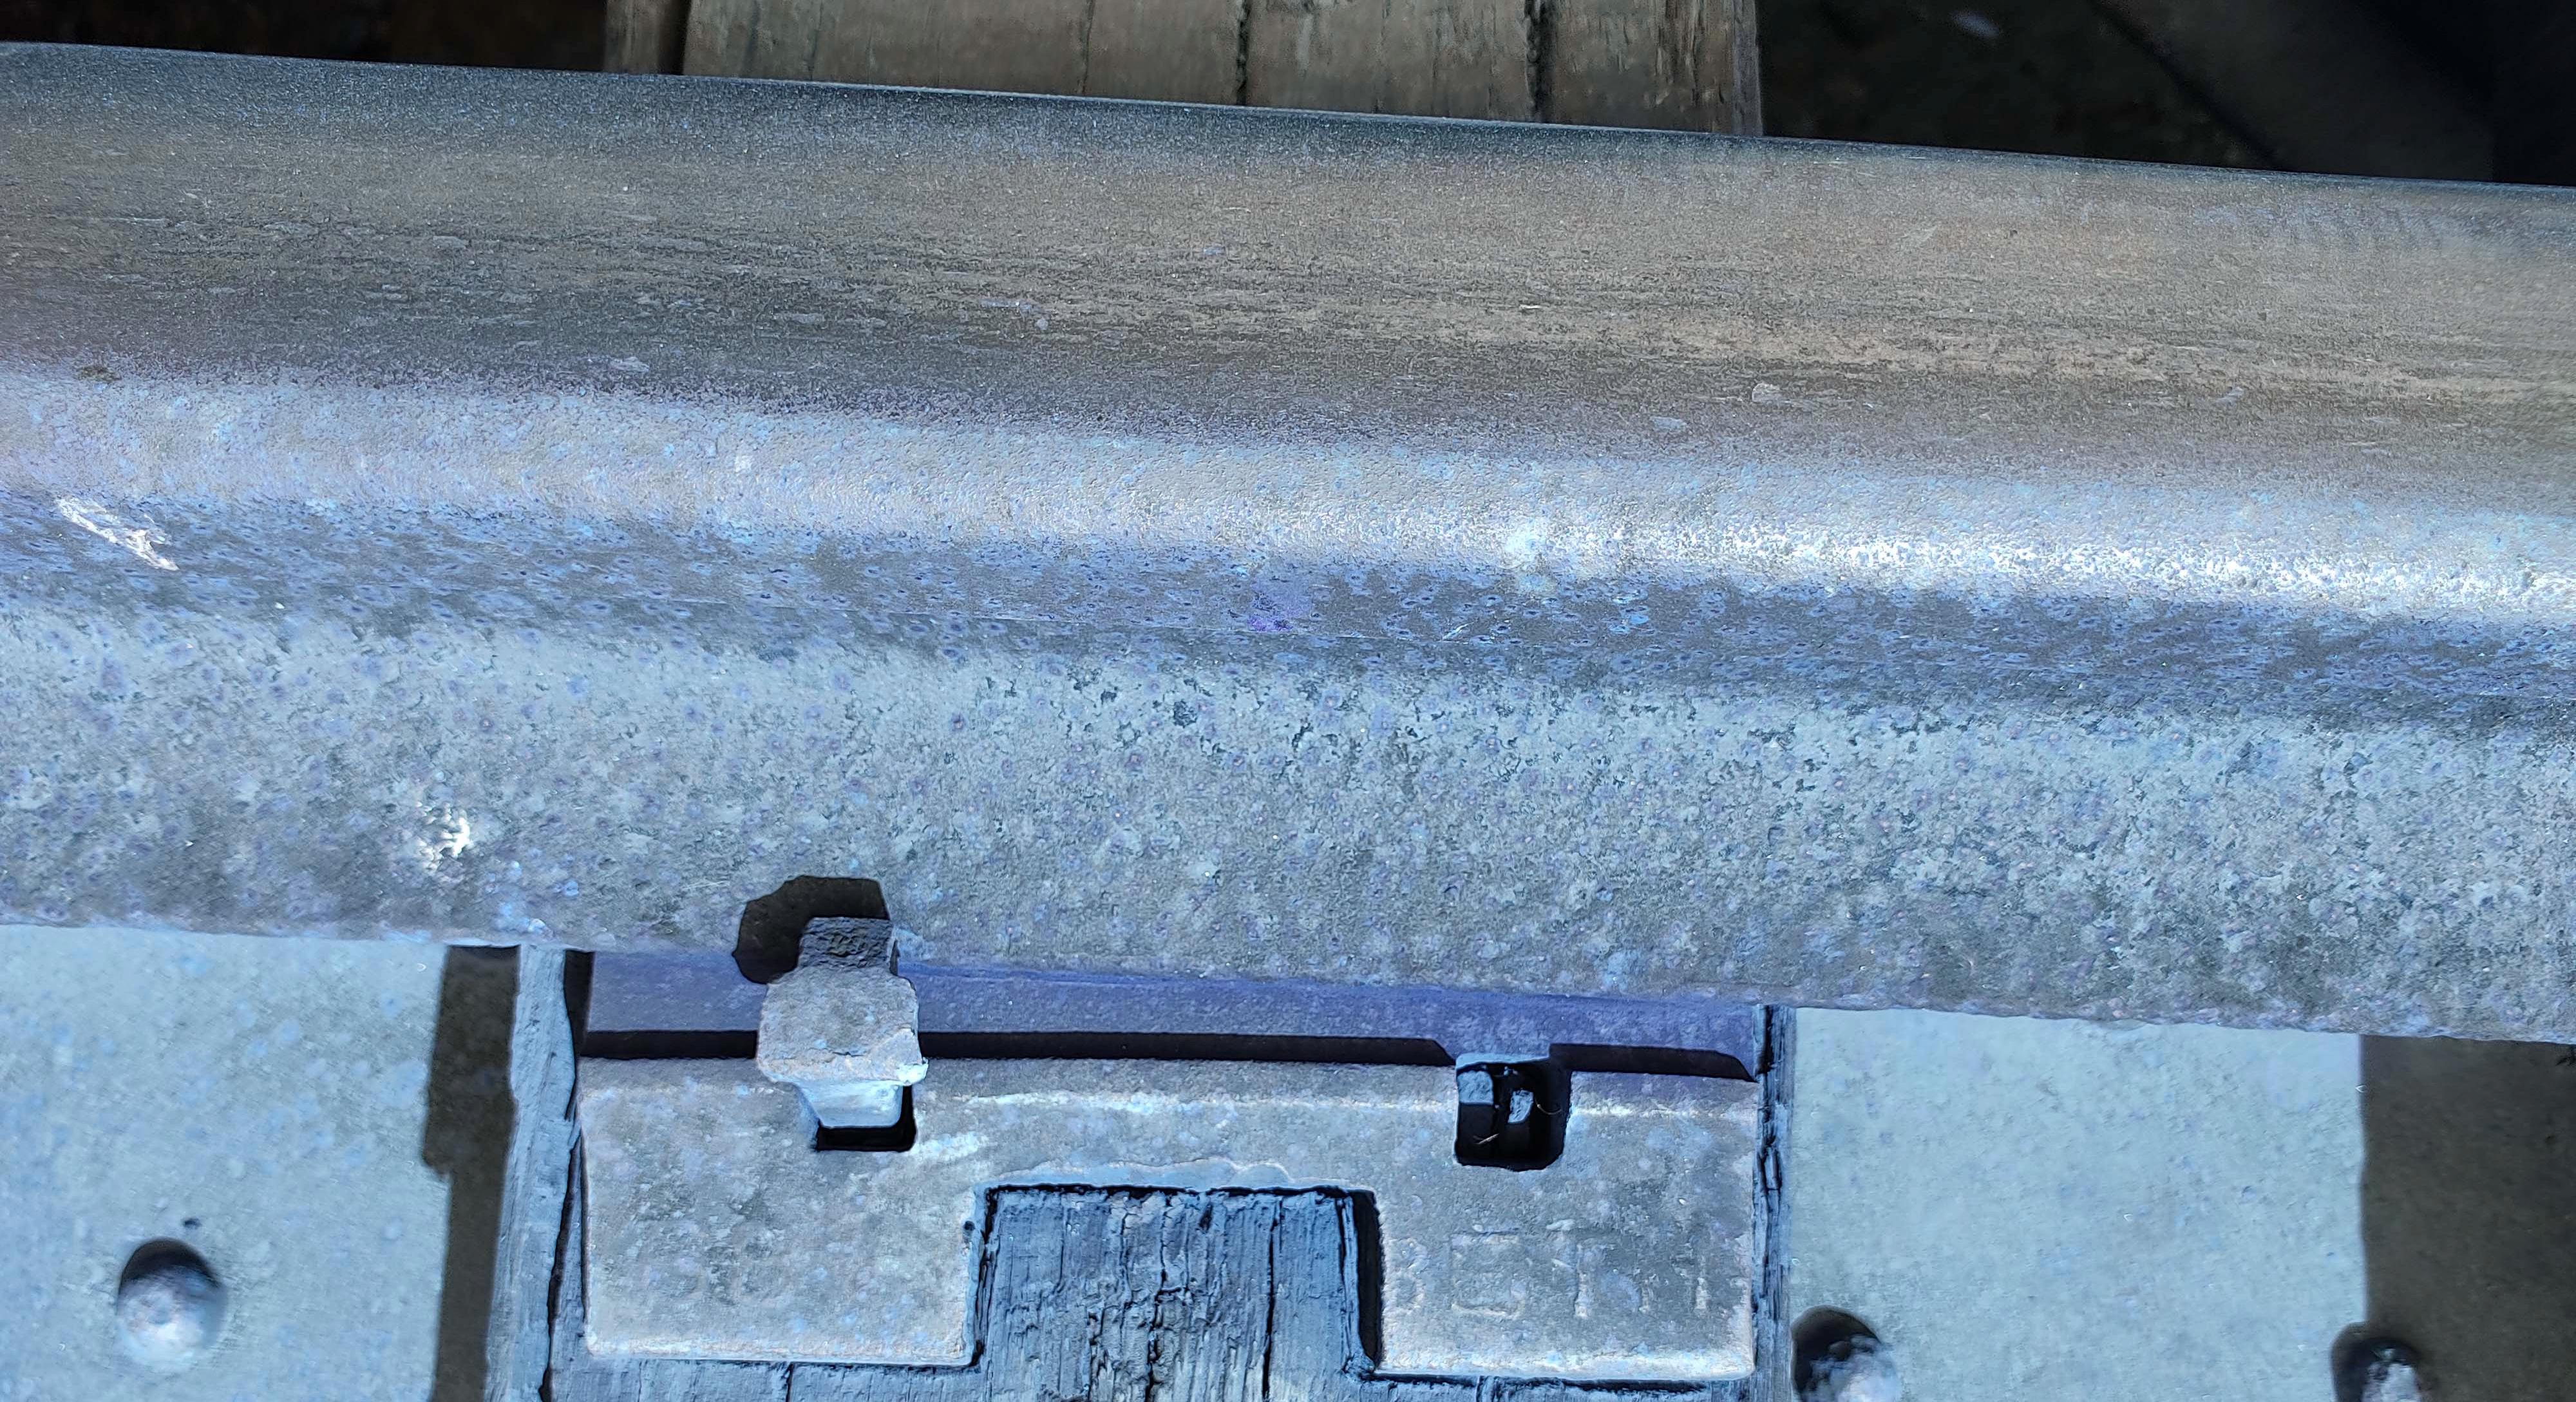error1: (661, 862, 982, 1255), (1431, 846, 1638, 1279)
